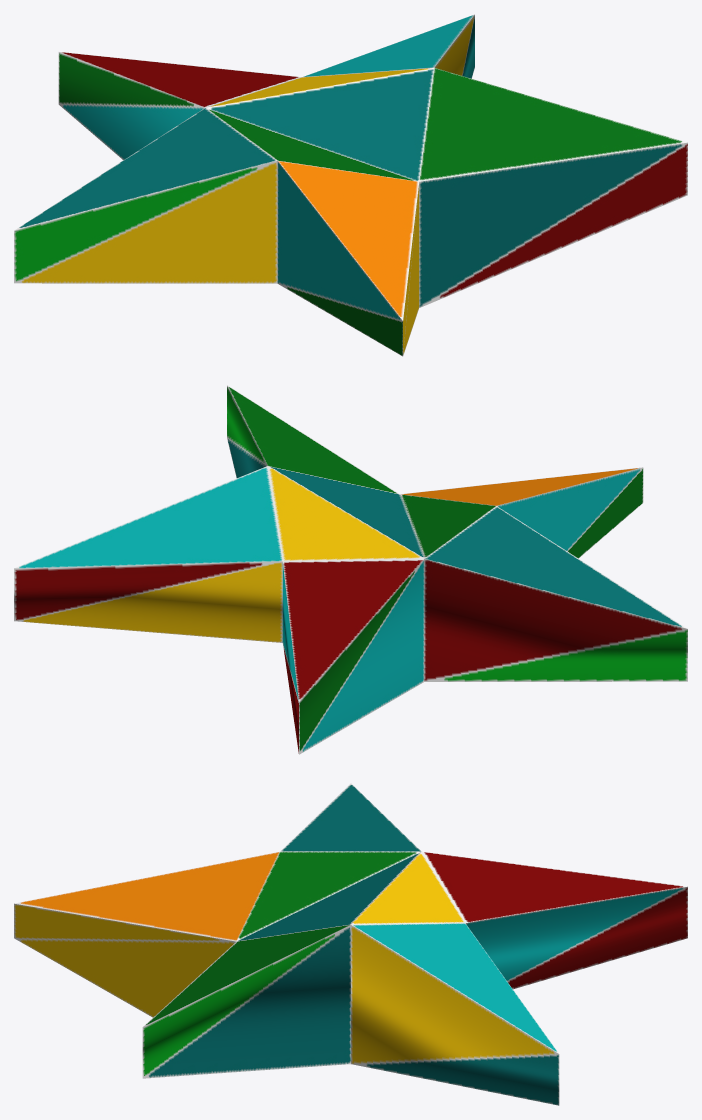
File: star.FBX
3 views of the same model, one above another, from view 1: azimuth 30°, elevation 25°; view 2: azimuth 150°, elevation 25°; view 3: azimuth 270°, elevation 25° (orthographic). The views are drawn at different scales.
Visible parts, largest first — view 1: Star001; view 2: Star001; view 3: Star001.
Part boxes in pixels (bbox=[...]): Star001: bbox=[14, 14, 687, 356]; Star001: bbox=[14, 385, 687, 754]; Star001: bbox=[14, 783, 687, 1105].
Bounding box in the file's own units: 9.65 × 2.92 × 10.15.
1 material, 1 textured.
